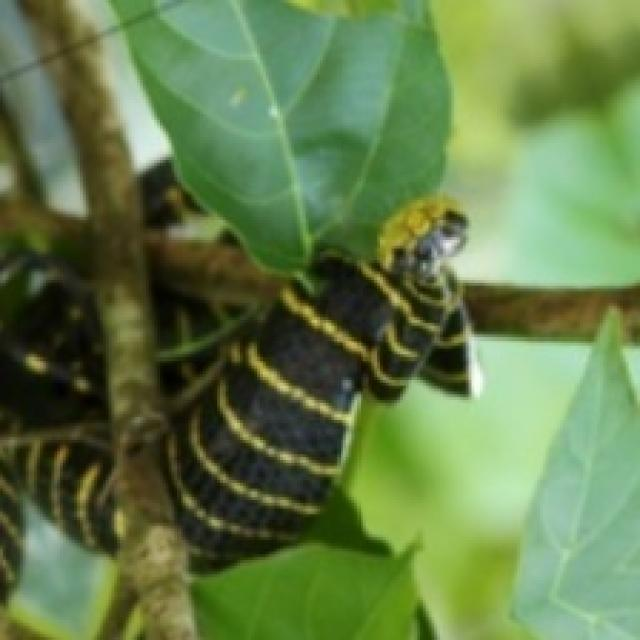mangrove cat snake: (146, 197, 477, 569), (0, 200, 117, 609)
